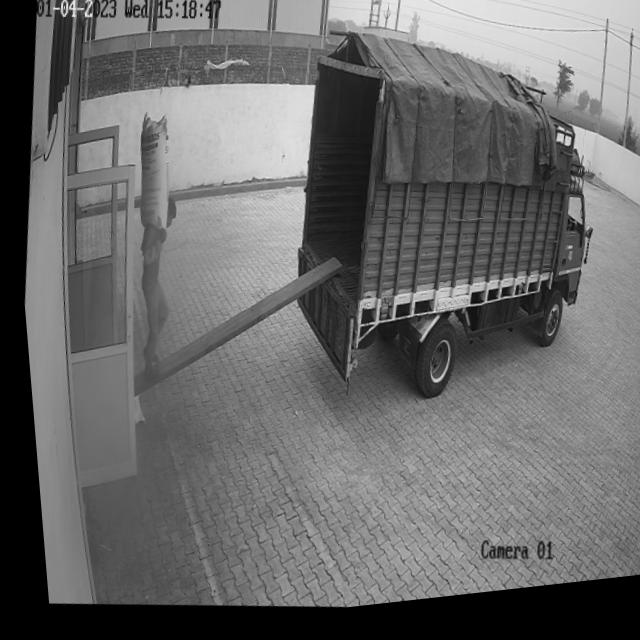sack: (125, 110, 178, 235)
